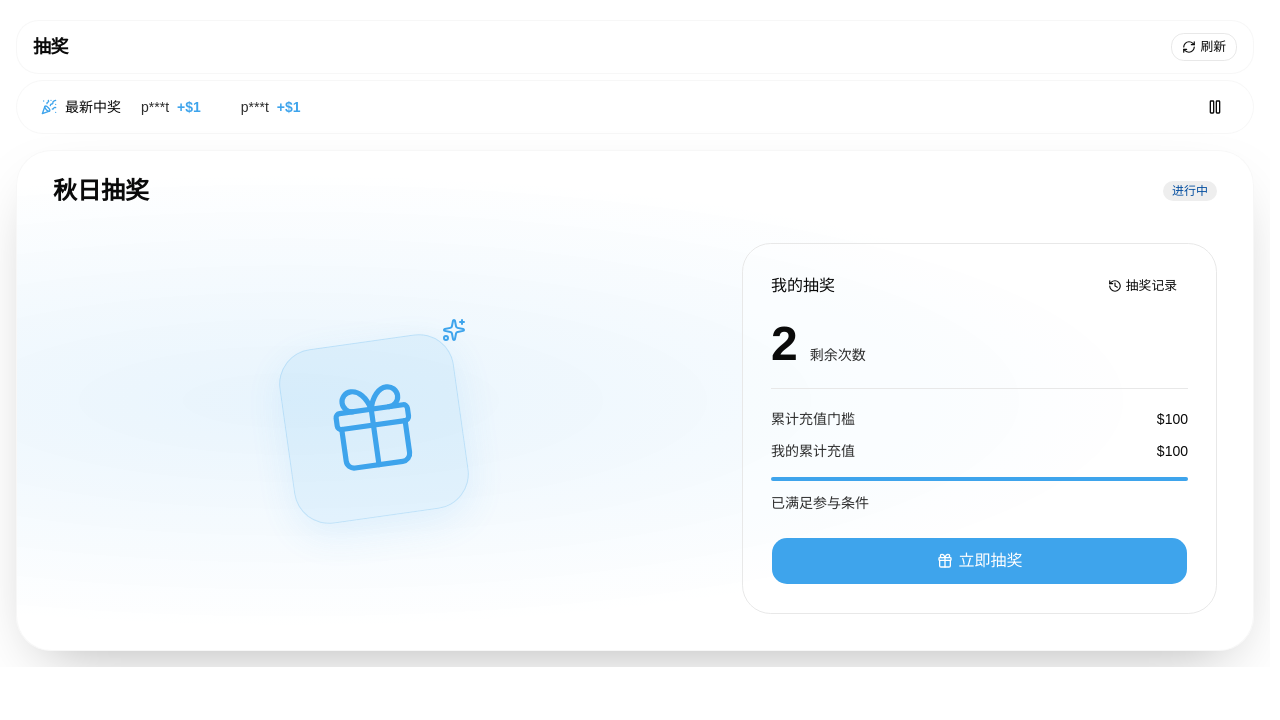
Test: 抽奖界面 › 中文页面展示资格与剩余次数，记录弹窗能够打开关闭
Expected: the heading "秋日抽奖" is shown, [53,175,149,207]
Expected: the button "立即抽奖" is enabled, [771,537,1188,585]
Click the button "抽奖记录" at (1142, 286), box [1097,272,1188,300]
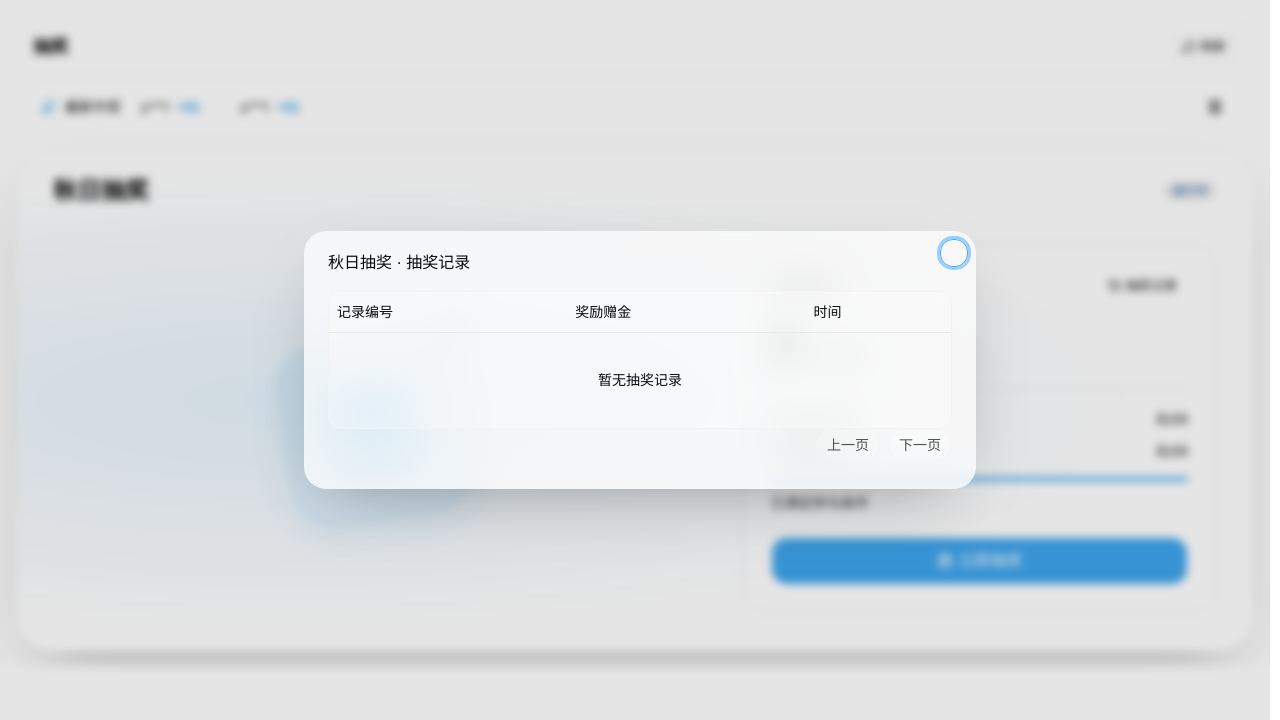
Expected: the text "暂无抽奖记录" is shown, [329,332,951,428]
Press Escape
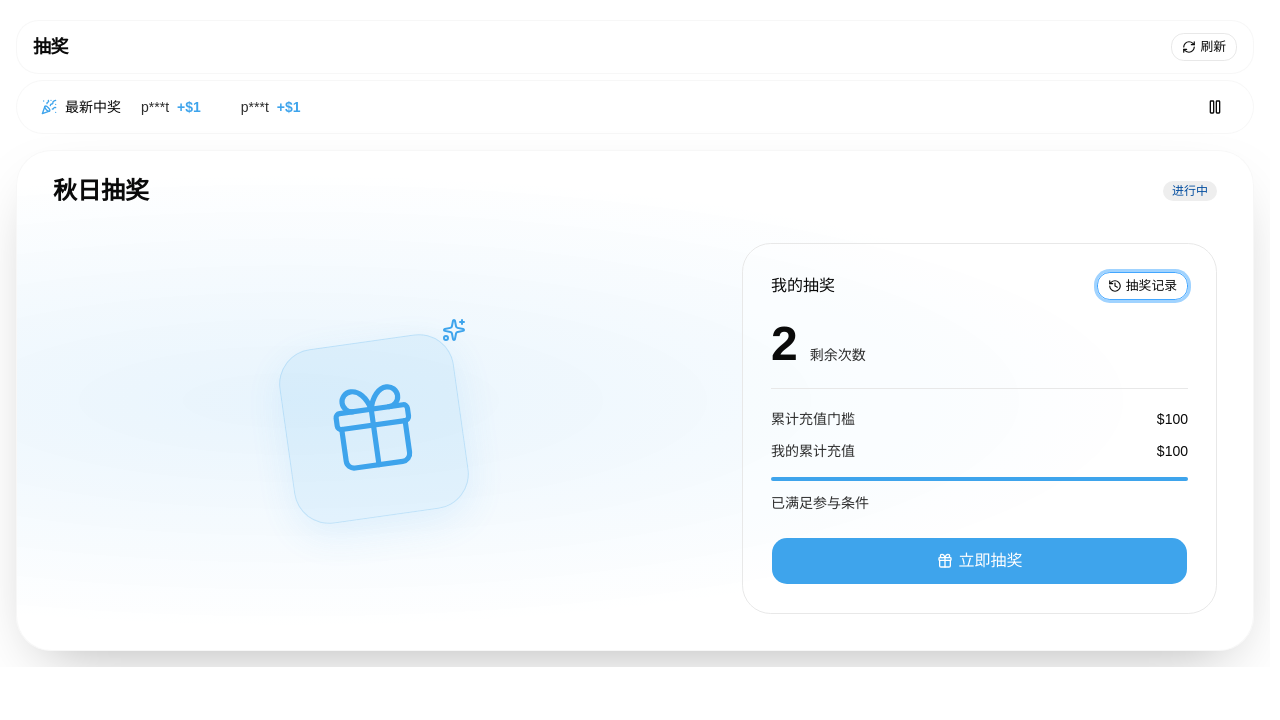
Expected: the dialog is gone
